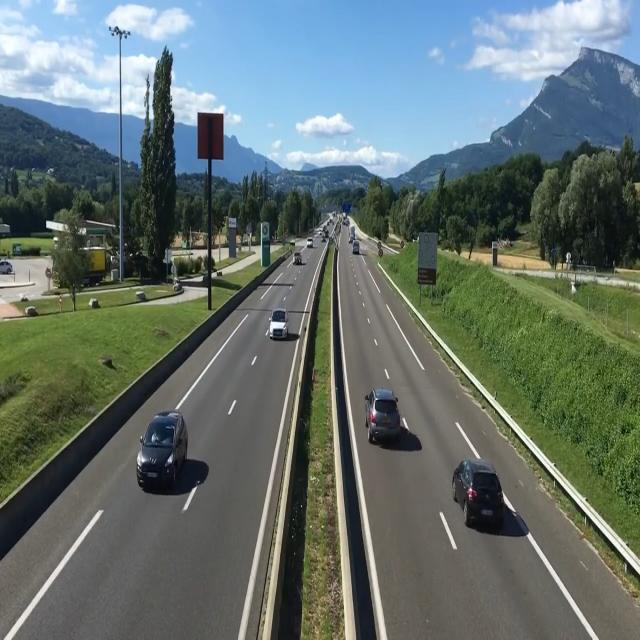car: (138, 410, 196, 502), (457, 459, 504, 536), (367, 385, 408, 449), (270, 304, 292, 342)
